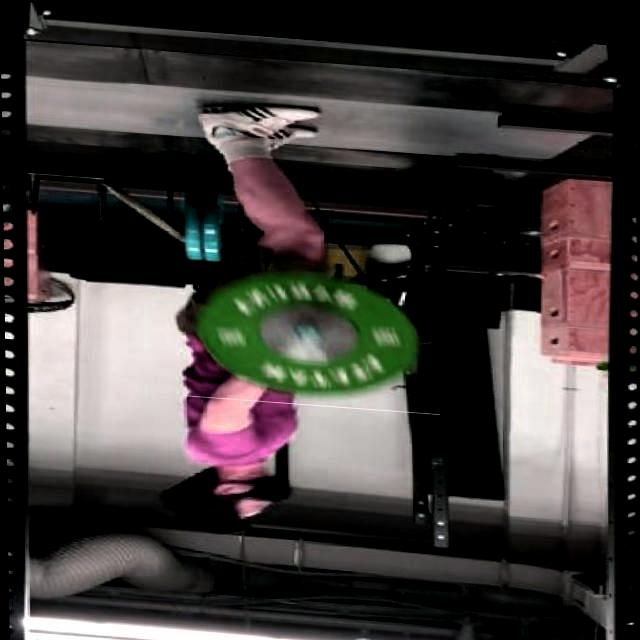barbell: (183, 258, 439, 409)
